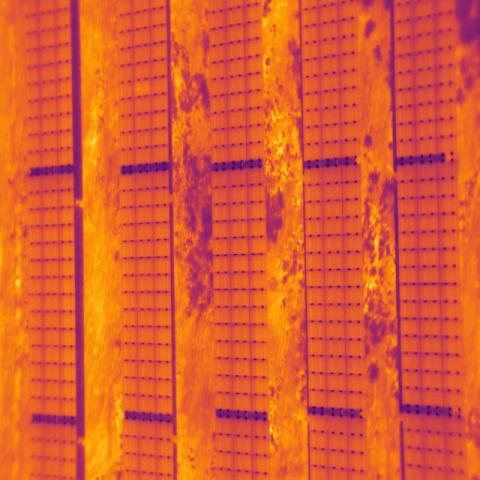fault: (134, 79, 150, 96)
